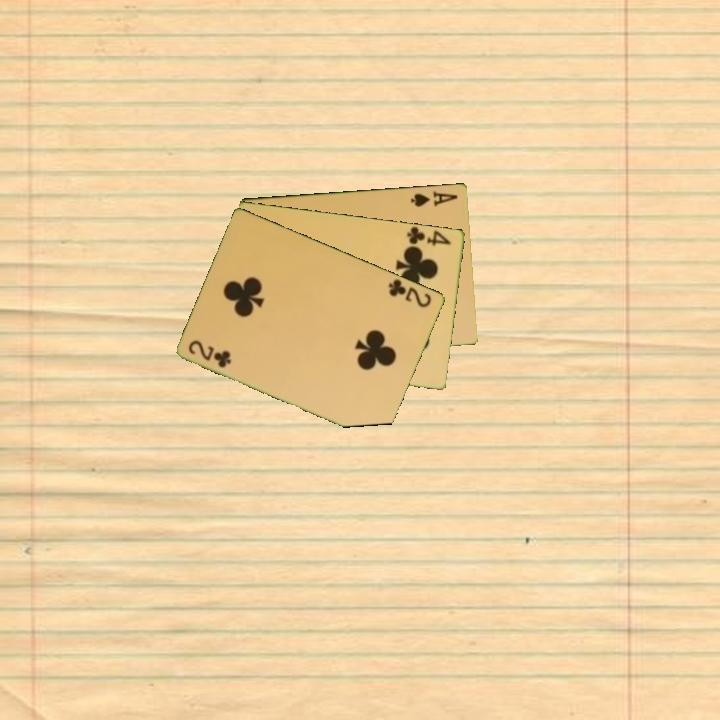2c: (385, 275, 435, 310), (185, 336, 234, 371)
4c: (404, 224, 454, 248)
As: (408, 187, 461, 209)
